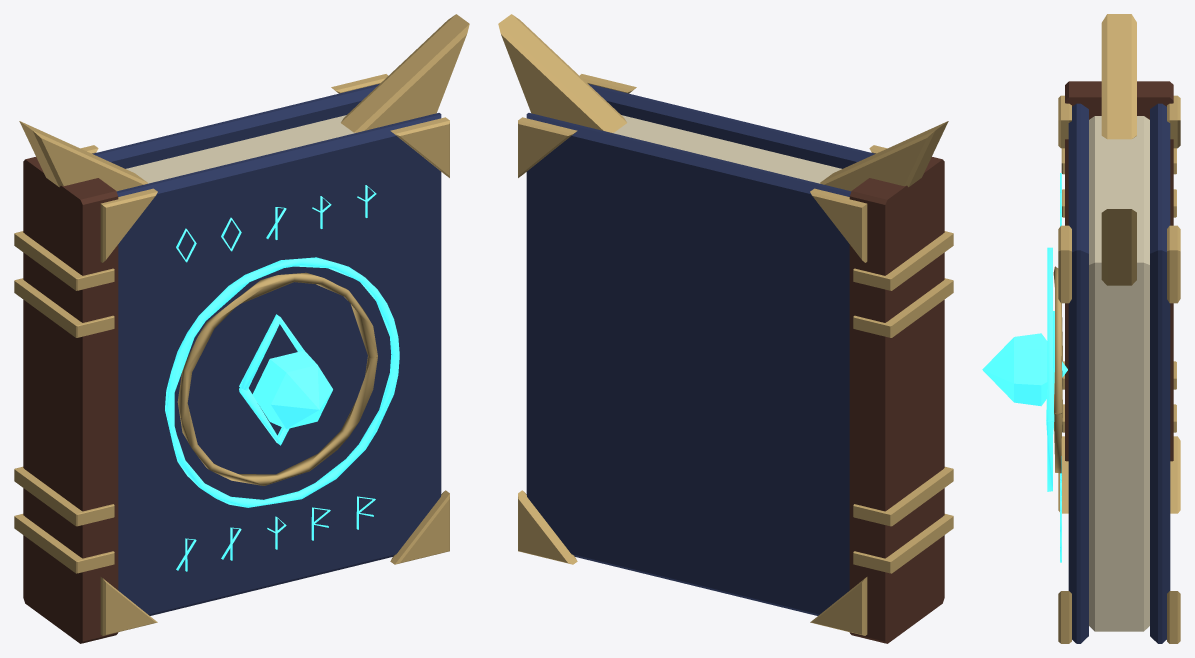
File: spell-tome-legendary-low.glb
The picture shows the model from 3 angles, left to right: view 1: azimuth 30°, elevation 25°; view 2: azimuth 150°, elevation 25°; view 3: azimuth 270°, elevation 25°; orthographic projection. The views are drawn at different scales.
Visible parts, largest first — view 1: spell-tome__legendary; view 2: spell-tome__legendary; view 3: spell-tome__legendary.
Boxes of the visible parts, left/top/right/bottom form: spell-tome__legendary: left=14, top=14, right=469, bottom=643; spell-tome__legendary: left=498, top=14, right=953, bottom=643; spell-tome__legendary: left=982, top=14, right=1180, bottom=643.
Bounding box in the file's own units: 0.34 × 0.375 × 0.1459.
